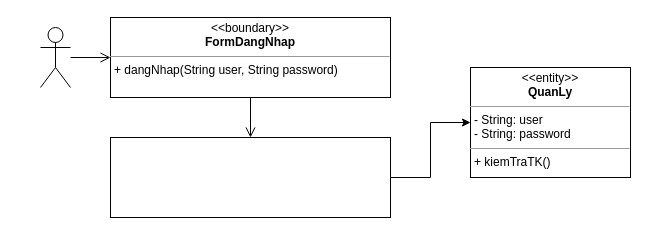
This 648x235 diagram has some shape labels left out. The shapes that lost their labels are listed below. From the top down, each one's box as (x1, y1, x2, y2) in pixels, then its label:
(40, 26, 70, 88): Người quản lý
(110, 136, 390, 218): <<control>> DangNhap + kiemTraTK(String user, String password)
